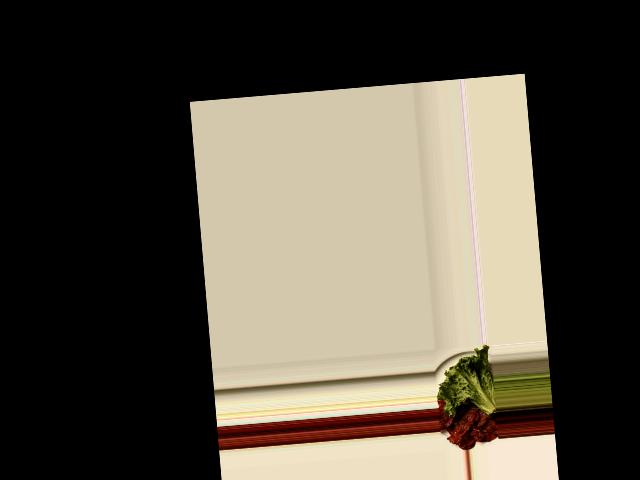lettuce: (435, 347, 497, 417)
